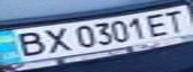0: (72, 22, 96, 50), (109, 17, 130, 43)
1: (124, 15, 148, 39)
3: (93, 20, 115, 46)
B: (6, 29, 51, 58)
E: (142, 10, 175, 37)
T: (160, 7, 193, 34)
X: (36, 25, 72, 55)
